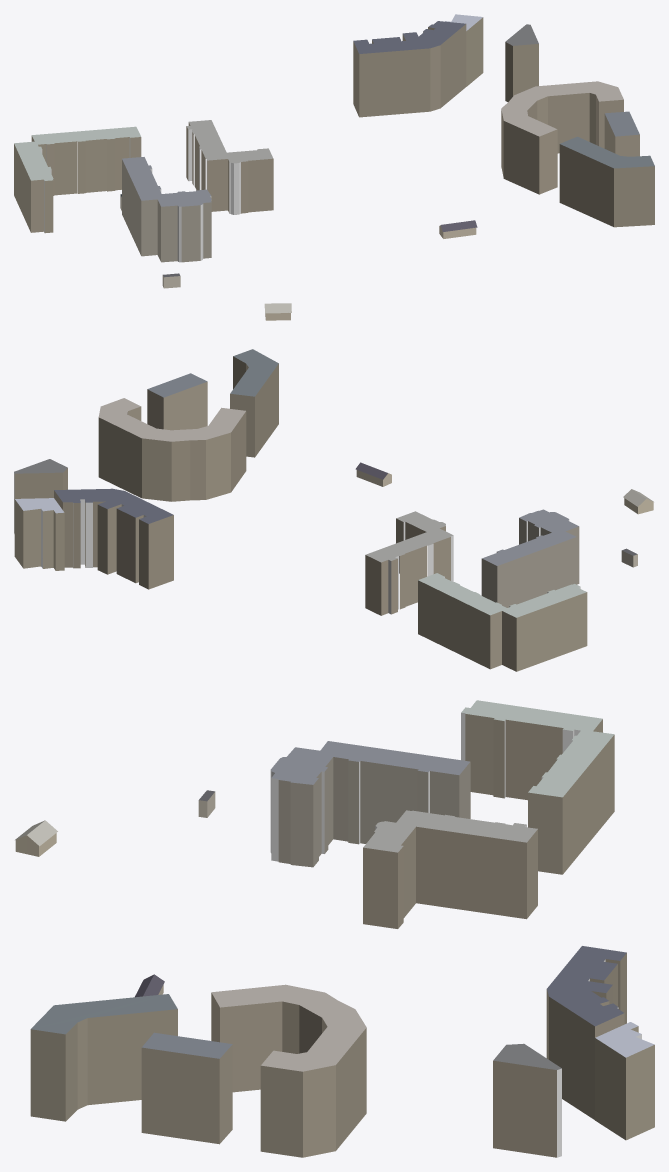
3 views of the same model, one above another, from view 1: azimuth 30°, elevation 25°; view 2: azimuth 150°, elevation 25°; view 3: azimuth 270°, elevation 25° (orthographic). The views are drawn at different scales.
Visible parts, largest first — view 1: tuile; view 2: tuile; view 3: tuile.
Part boxes in pixels (<box>): tuile: <box>14,14,654,320</box>; tuile: <box>14,349,653,671</box>; tuile: <box>15,700,654,1157</box>.
Size of the model in its own units: 249 by 29.52 by 177.
